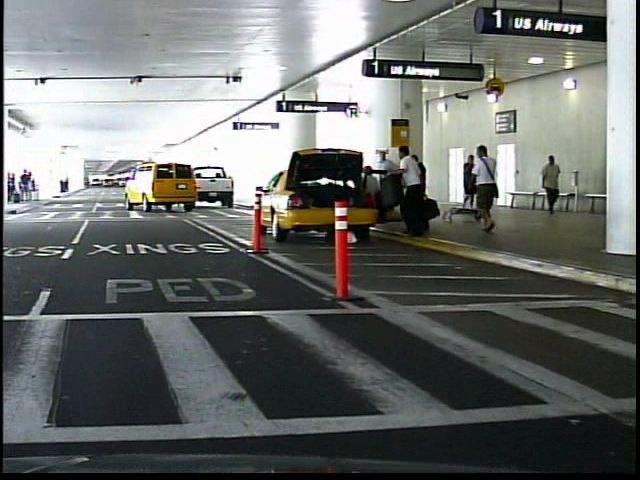person: (465, 142, 502, 235), (532, 151, 558, 214)
